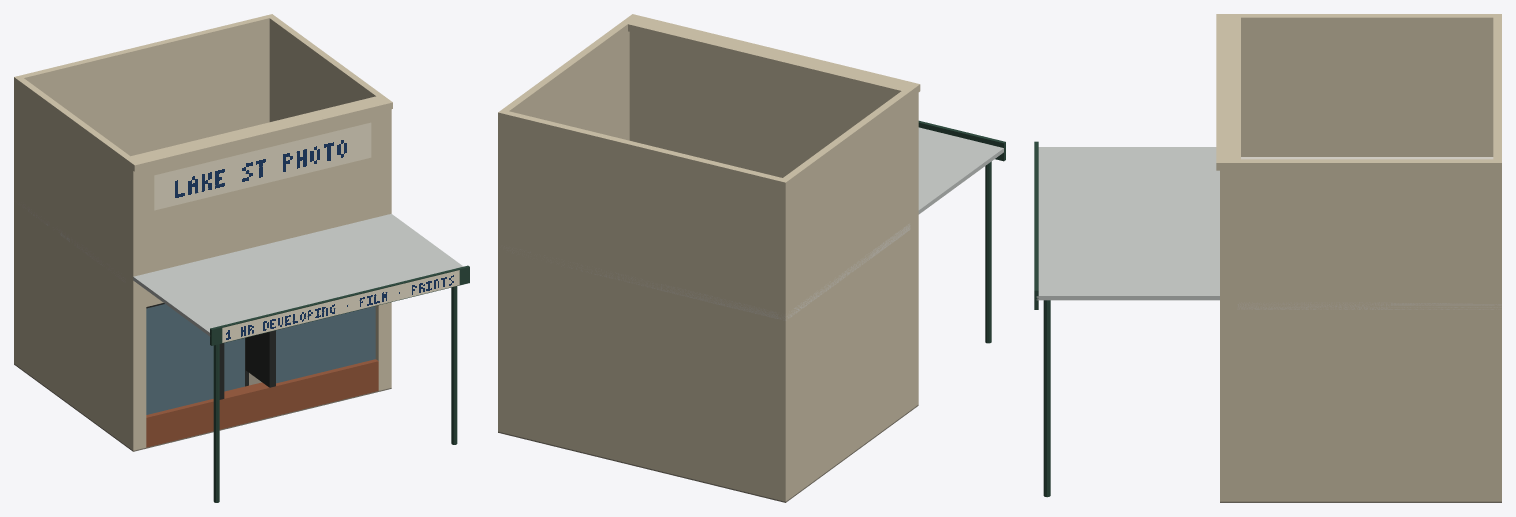
File: shop_photo_lab.glb
3 renders of one model, left to right at view 1: azimuth 30°, elevation 25°; view 2: azimuth 150°, elevation 25°; view 3: azimuth 270°, elevation 25°, orthographic. The views are drawn at different scales.
Parts seen in each view (by area): view 1: ShopPhotoLab; view 2: ShopPhotoLab; view 3: ShopPhotoLab.
Part boxes in pixels (<box>): ShopPhotoLab: <box>14,14,469,502</box>; ShopPhotoLab: <box>498,14,1005,502</box>; ShopPhotoLab: <box>1034,14,1501,502</box>.
Size of the model in its own units: 5 by 5.32 by 6.63.
14 materials, 3 textured.
